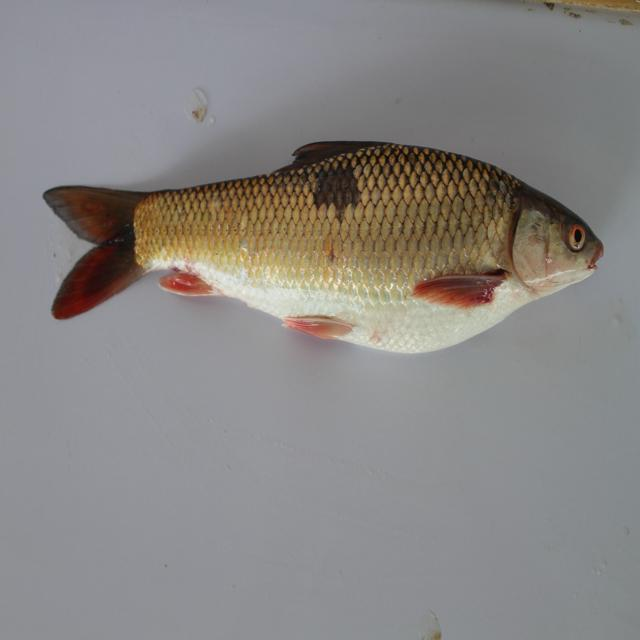Mori: (33, 129, 609, 385)
